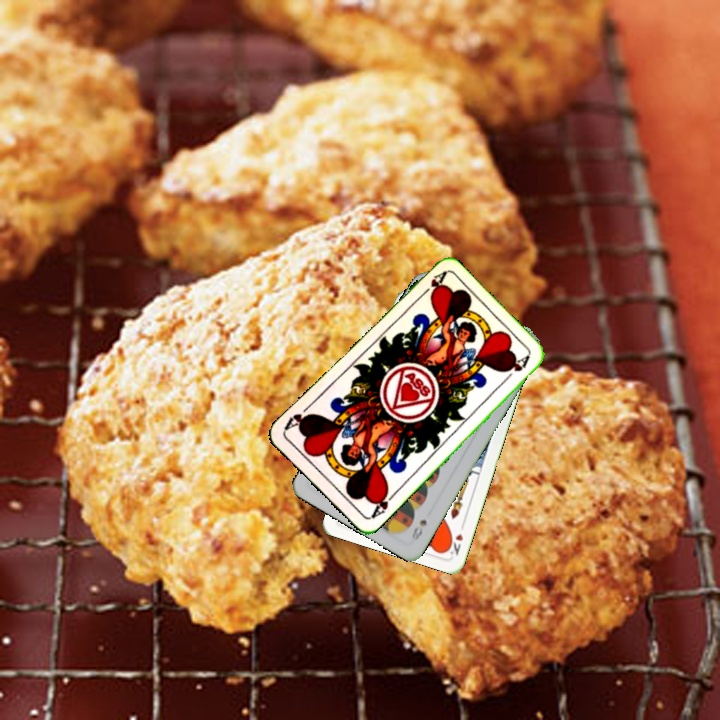HA: (367, 486, 399, 521), (415, 268, 449, 300)
HK: (443, 518, 467, 558)
S8: (407, 515, 430, 544)
